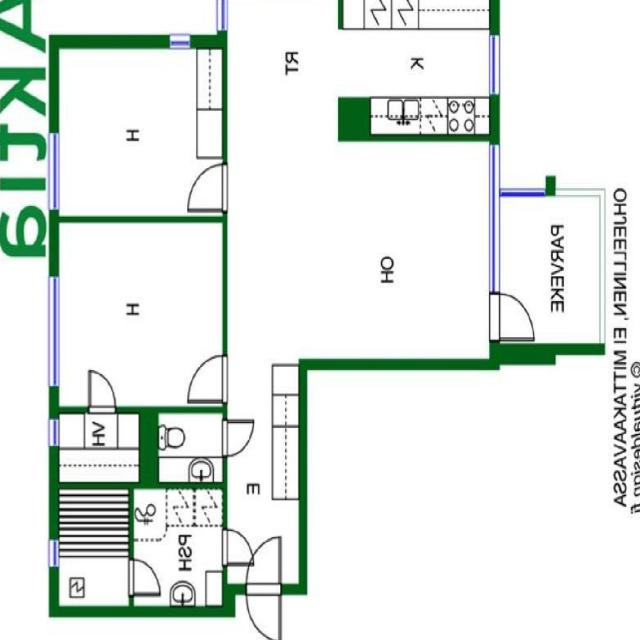door: (489, 293, 534, 340), (247, 583, 280, 640), (247, 537, 280, 593), (189, 356, 227, 402), (189, 164, 227, 210), (129, 559, 159, 595), (222, 421, 253, 455), (90, 372, 115, 413), (222, 530, 252, 564)
